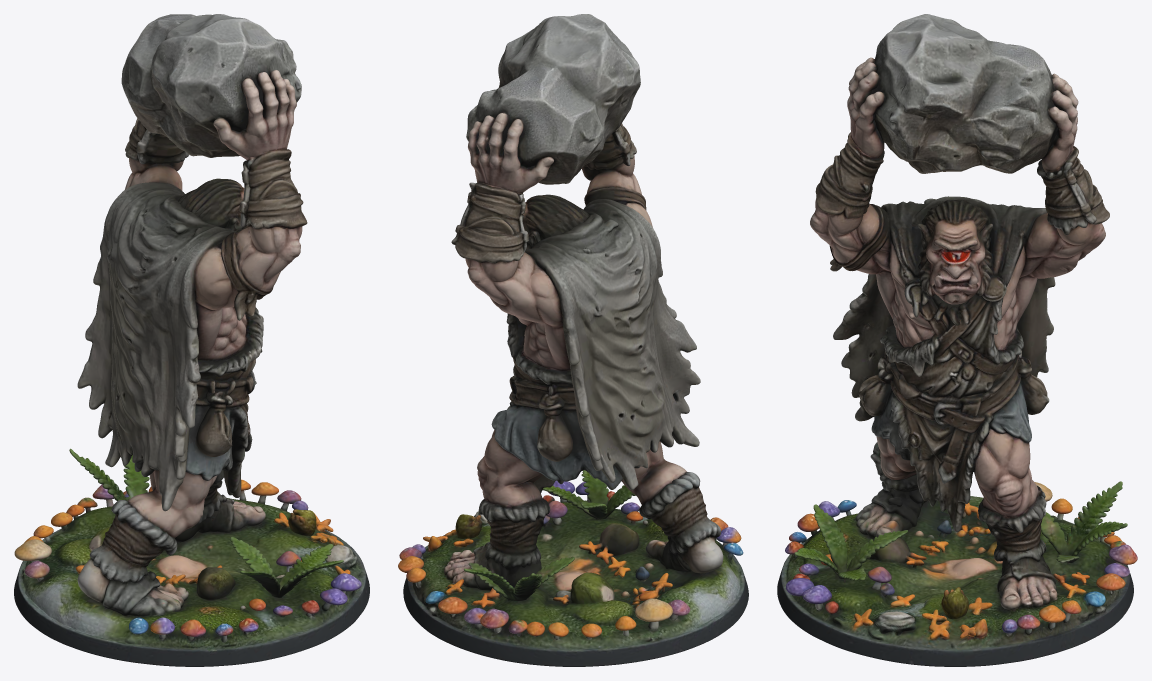
Rendered from inspiration-352.glb.
3 renders of one model, left to right at view 1: azimuth 30°, elevation 25°; view 2: azimuth 150°, elevation 25°; view 3: azimuth 270°, elevation 25°, orthographic. The views are drawn at different scales.
Visible parts, largest first — view 1: tripo_node_37495bce-03c4-4be2-ba99-f2e93c8db1fb; view 2: tripo_node_37495bce-03c4-4be2-ba99-f2e93c8db1fb; view 3: tripo_node_37495bce-03c4-4be2-ba99-f2e93c8db1fb.
Boxes of the visible parts, left/top/right/bottom form: tripo_node_37495bce-03c4-4be2-ba99-f2e93c8db1fb: left=14, top=14, right=369, bottom=666; tripo_node_37495bce-03c4-4be2-ba99-f2e93c8db1fb: left=398, top=14, right=748, bottom=666; tripo_node_37495bce-03c4-4be2-ba99-f2e93c8db1fb: left=777, top=14, right=1137, bottom=666.
Bounding box in the file's own units: 0.5628 × 1 × 0.5673.
1 material, 1 textured.
